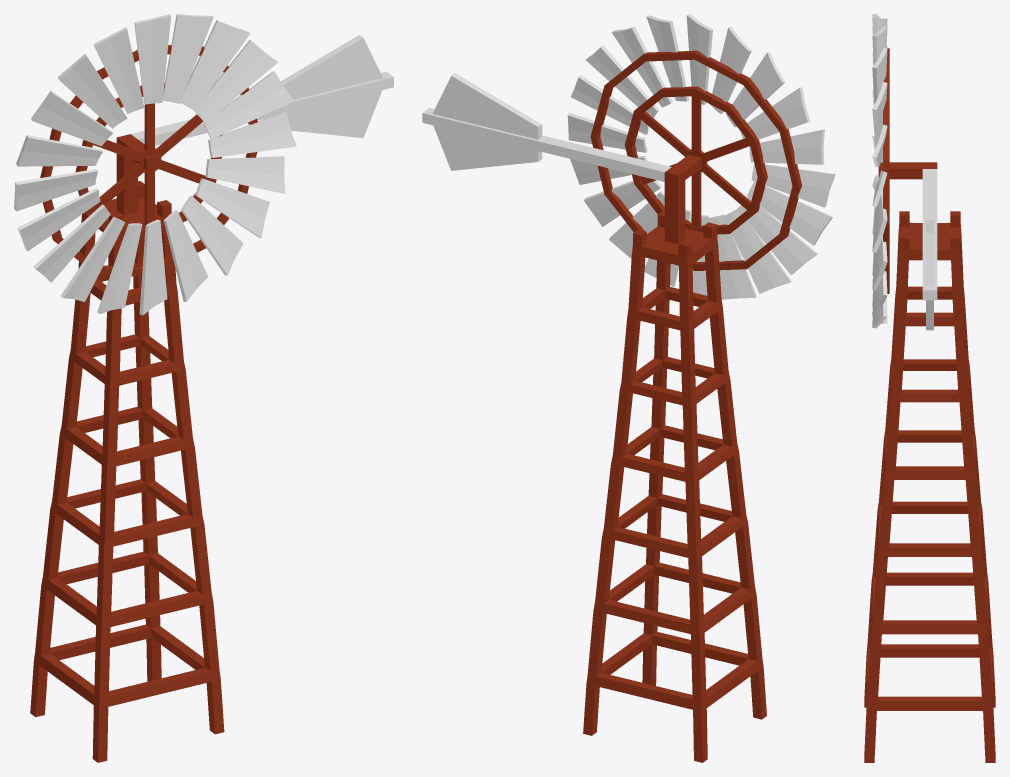
File: Farm_Windmill.glb
3 renders of one model, left to right at view 1: azimuth 30°, elevation 25°; view 2: azimuth 150°, elevation 25°; view 3: azimuth 270°, elevation 25°, orthographic. The views are drawn at different scales.
Visible parts, largest first — view 1: Windmill, Windmill_Blades; view 2: Windmill, Windmill_Blades; view 3: Windmill, Windmill_Blades.
Part boxes in pixels (left/top/right/bottom): Windmill: left=30, top=35, right=393, bottom=762; Windmill_Blades: left=14, top=14, right=296, bottom=315; Windmill: left=422, top=73, right=766, bottom=762; Windmill_Blades: left=567, top=14, right=835, bottom=299; Windmill: left=864, top=162, right=995, bottom=762; Windmill_Blades: left=872, top=14, right=889, bottom=328.
Size of the model in its own units: 651 by 1120 by 190.
